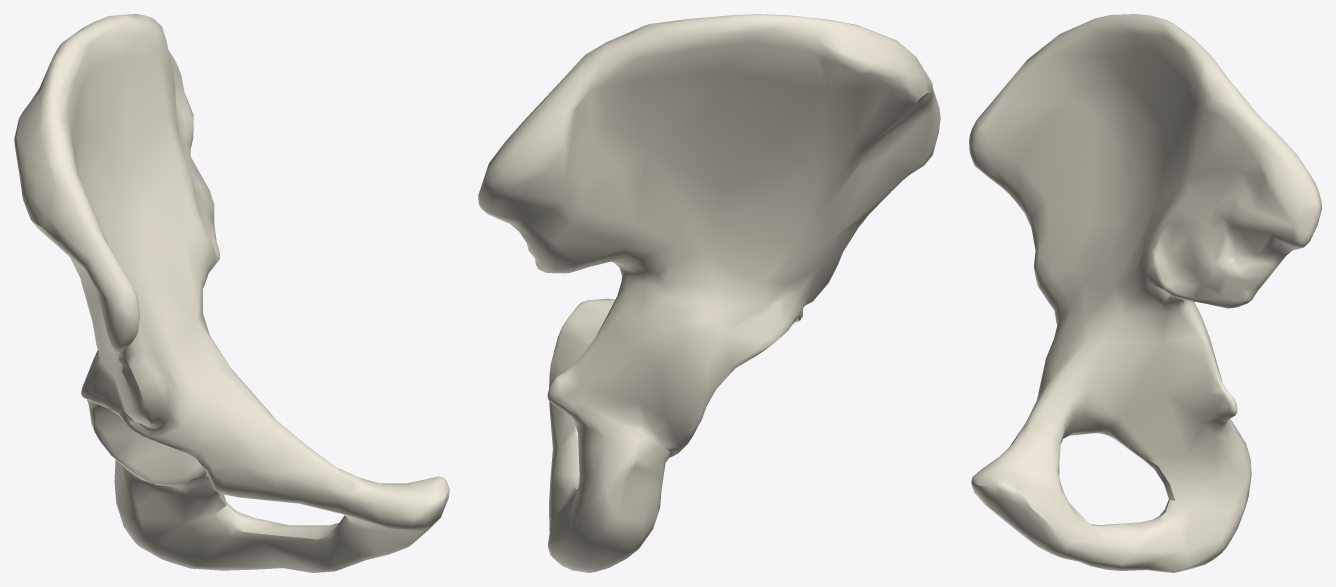
File: fma16586_fj3152.glb
The picture shows the model from 3 angles, left to right: view 1: azimuth 30°, elevation 25°; view 2: azimuth 150°, elevation 25°; view 3: azimuth 270°, elevation 25°; orthographic projection. The views are drawn at different scales.
Visible parts, largest first — view 1: FMA16586_FJ3152; view 2: FMA16586_FJ3152; view 3: FMA16586_FJ3152.
Boxes of the visible parts, x1,y1,x2,y2 form: FMA16586_FJ3152: (14, 14, 449, 572); FMA16586_FJ3152: (478, 14, 940, 572); FMA16586_FJ3152: (969, 14, 1321, 572).
Size of the model in its own units: 0.1421 by 0.2057 by 0.1379.
